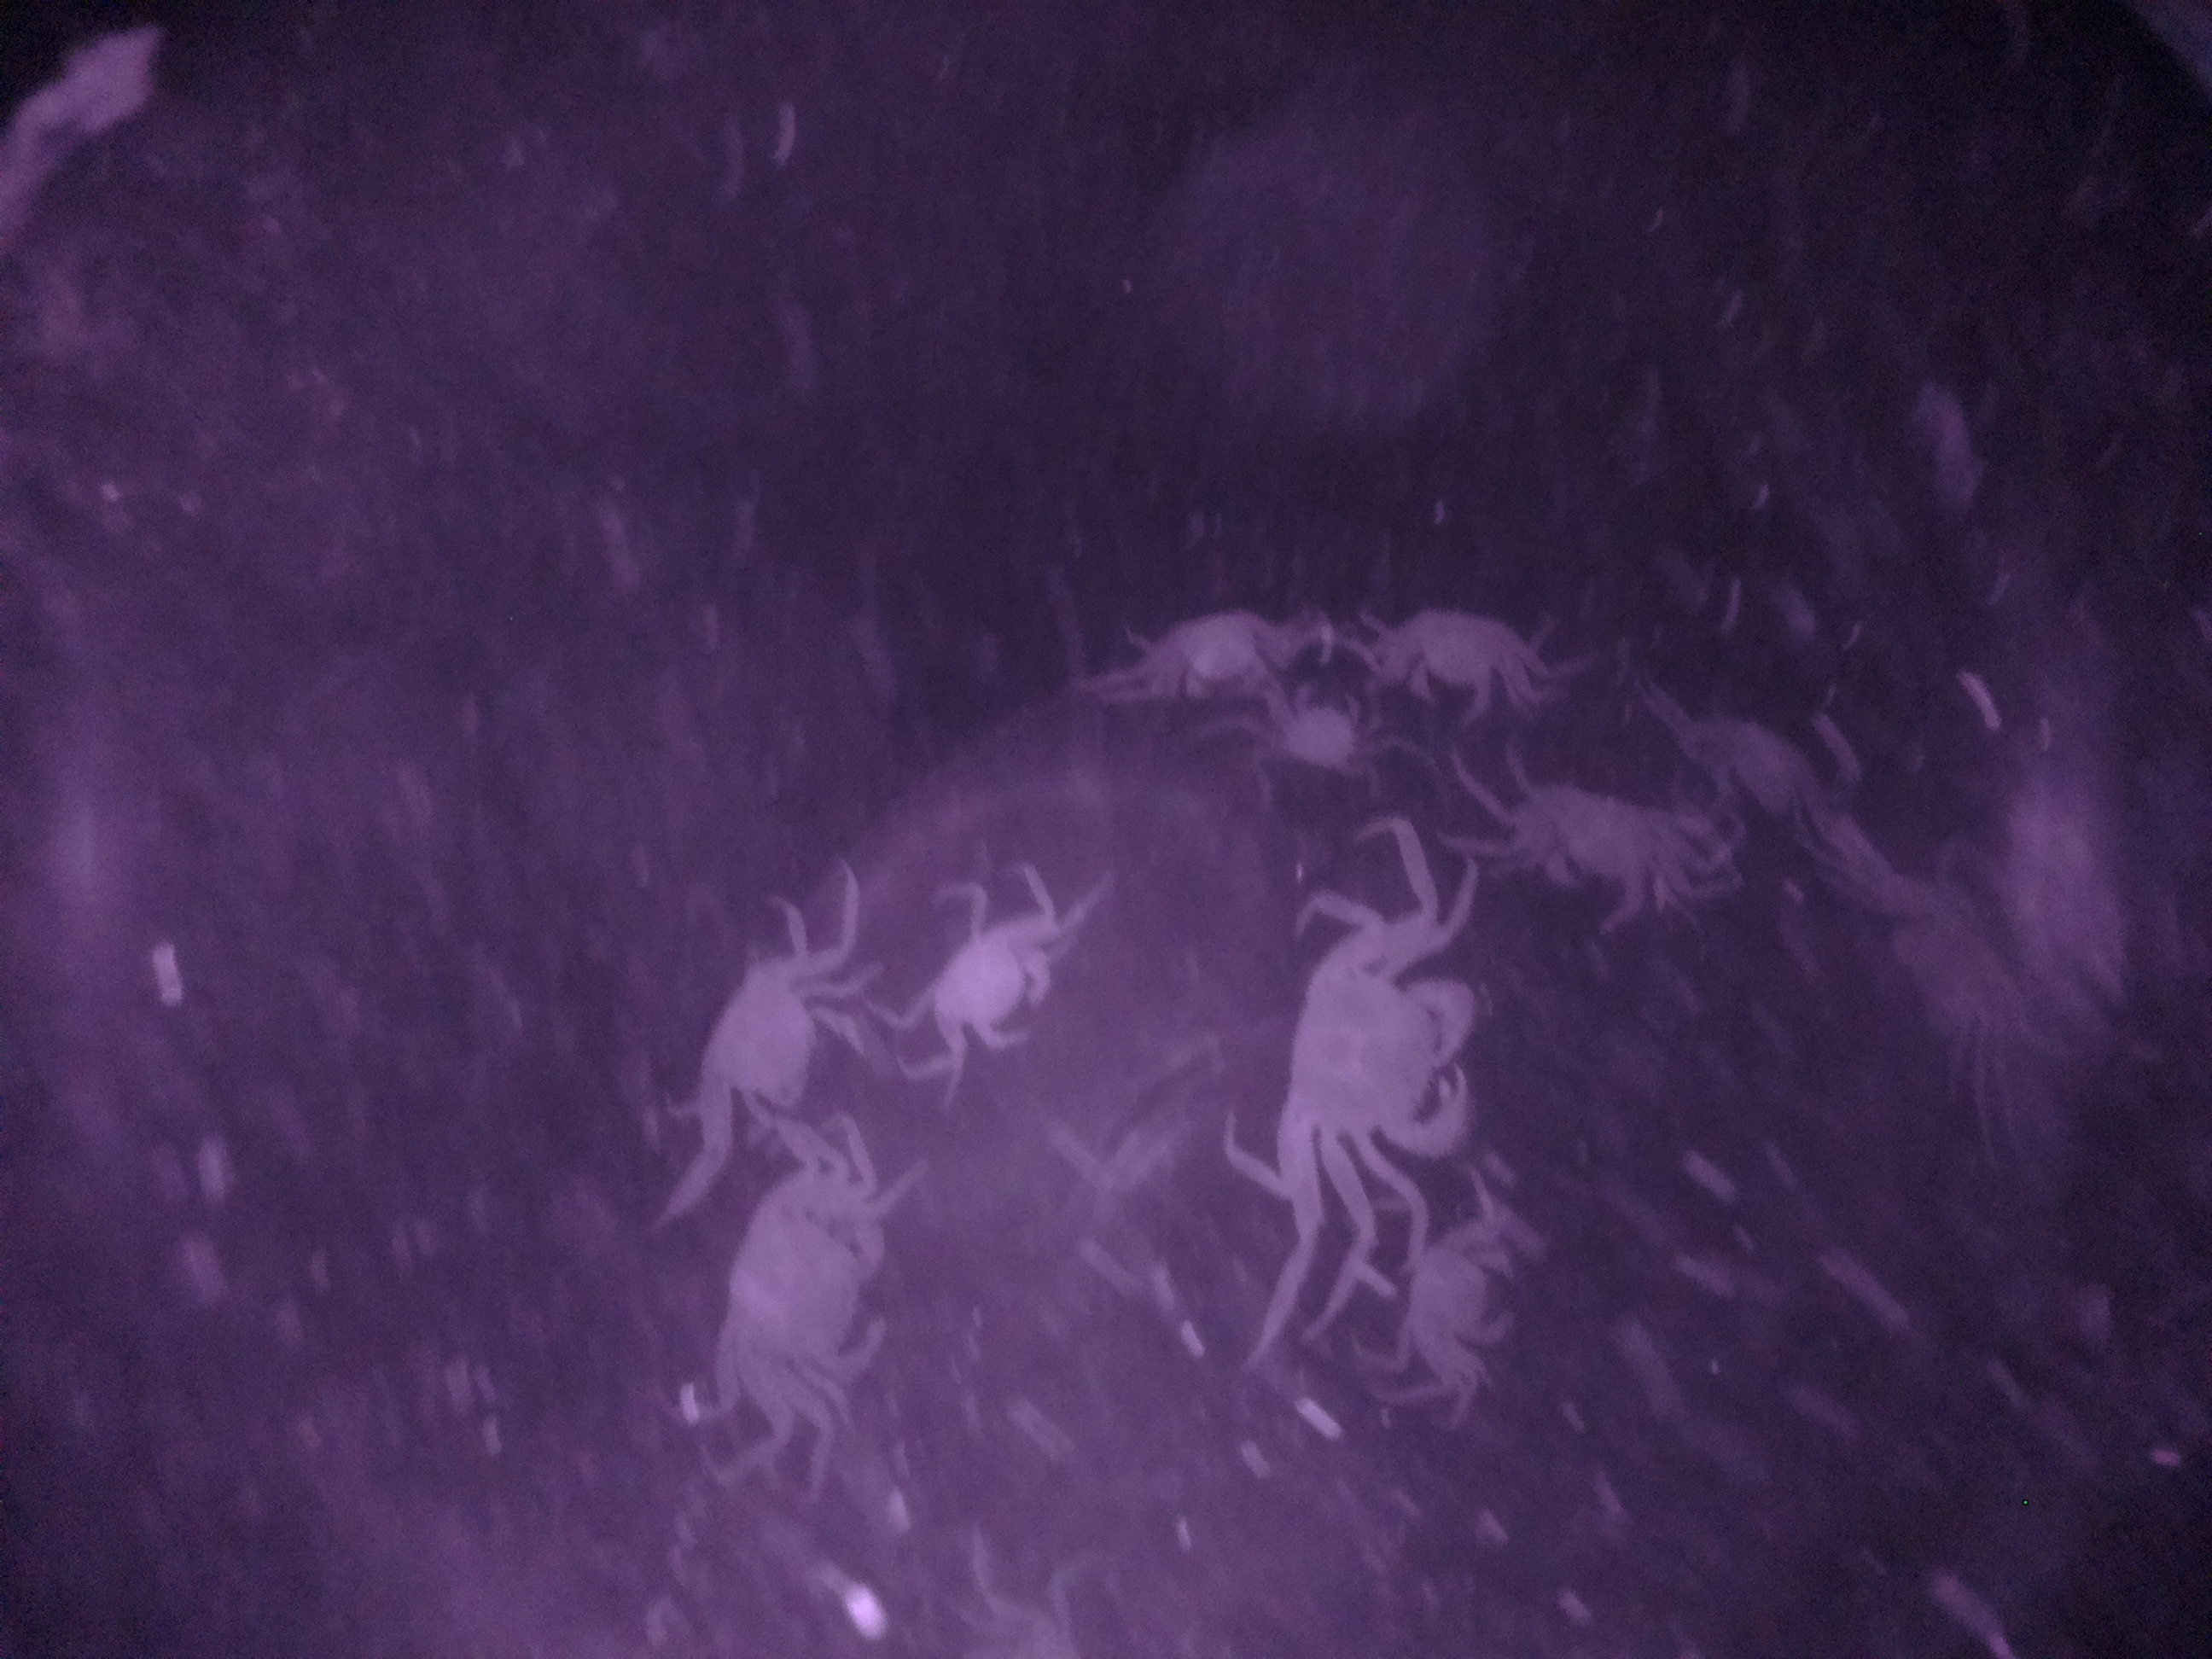Crab: (1270, 939, 1489, 1183), (693, 1178, 892, 1380), (685, 941, 836, 1138), (1512, 770, 1684, 918), (920, 906, 1061, 1063), (1383, 1230, 1527, 1363), (1385, 603, 1534, 720), (1144, 598, 1284, 713)
